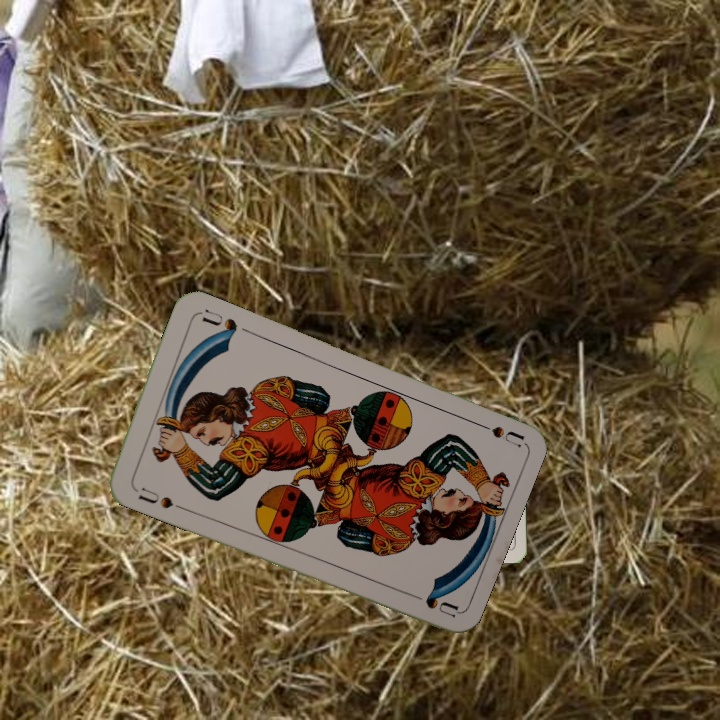SU: (467, 416, 525, 450), (128, 480, 185, 512)
